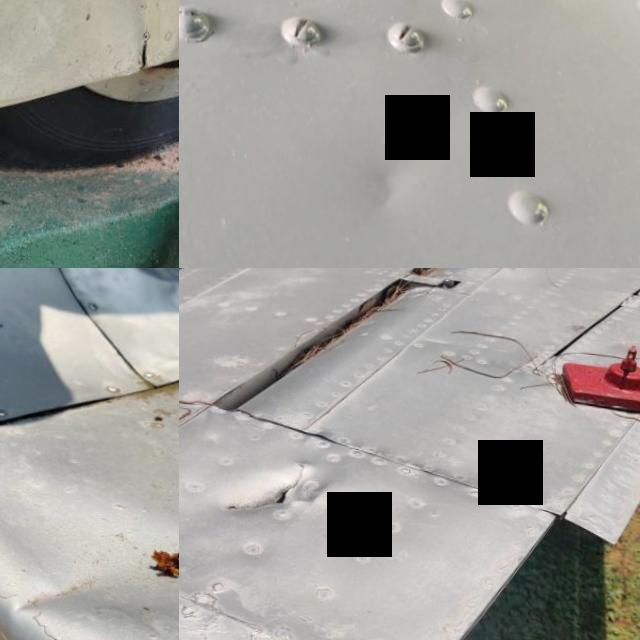Crack: (220, 443, 336, 525), (126, 25, 162, 73)
Dent: (0, 478, 179, 640), (352, 146, 429, 232), (87, 268, 179, 306)
